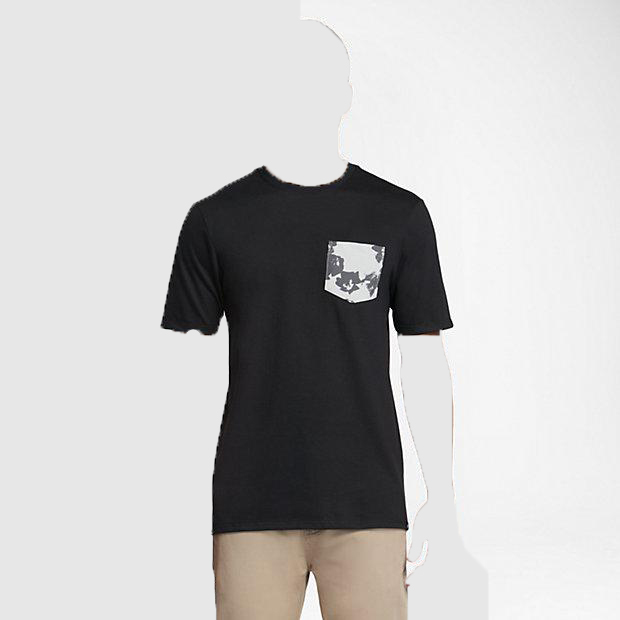teeshirt: (151, 162, 462, 535)
